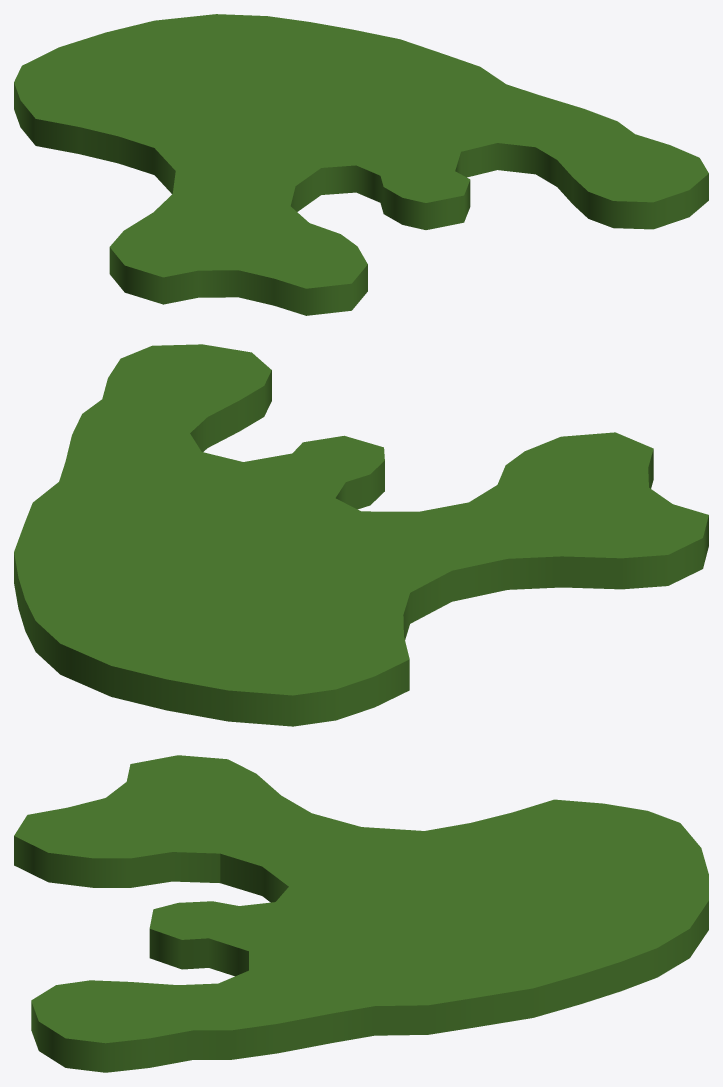
Rendered from Islands_08.fbx.
3 views of the same model, one above another, from view 1: azimuth 30°, elevation 25°; view 2: azimuth 150°, elevation 25°; view 3: azimuth 270°, elevation 25° (orthographic). The views are drawn at different scales.
Parts seen in each view (by area): view 1: Island_08; view 2: Island_08; view 3: Island_08.
Part boxes in pixels (box(x1,y1,x2,y2)): Island_08: box(14, 14, 708, 315); Island_08: box(14, 344, 708, 726); Island_08: box(14, 755, 708, 1072).
Size of the model in its own units: 3197 by 153 by 3260.
